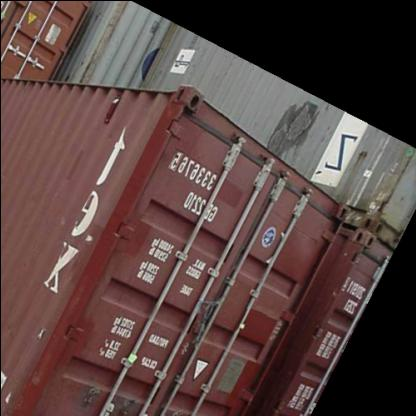Damage: (103, 85, 137, 113), (30, 322, 58, 346), (81, 229, 97, 245)
